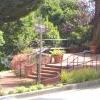stairs: (29, 60, 64, 82)
